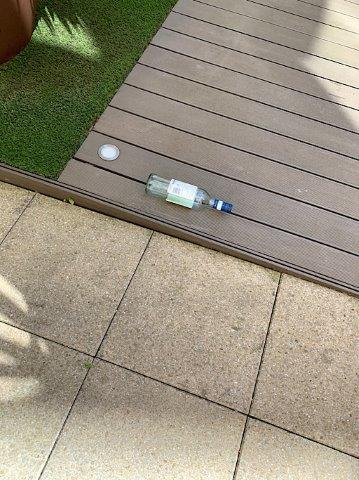botolkaca: (146, 173, 234, 213)
